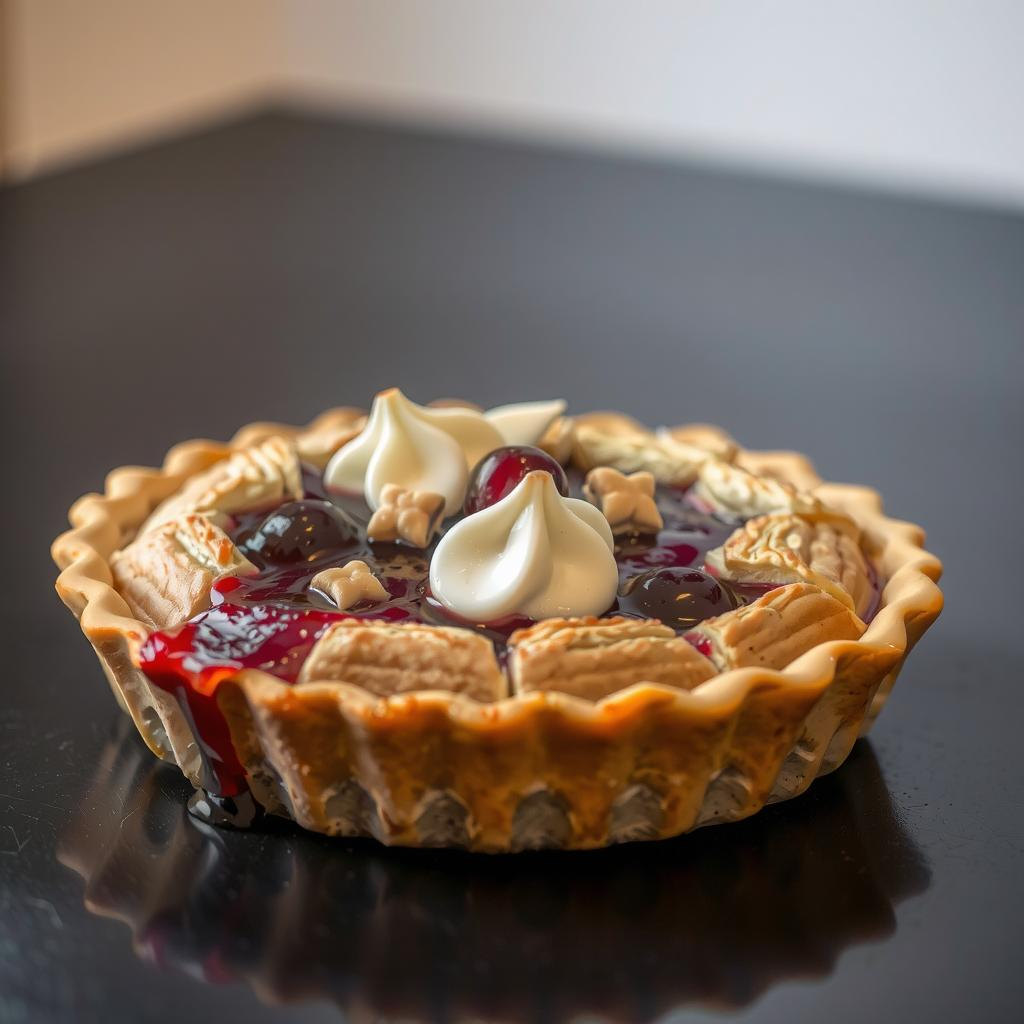pie: (39, 386, 956, 859)
